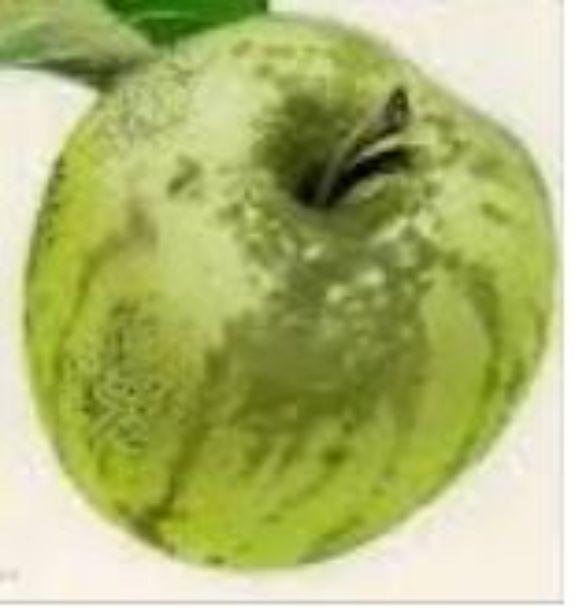BLOTCH: (38, 13, 543, 564)
